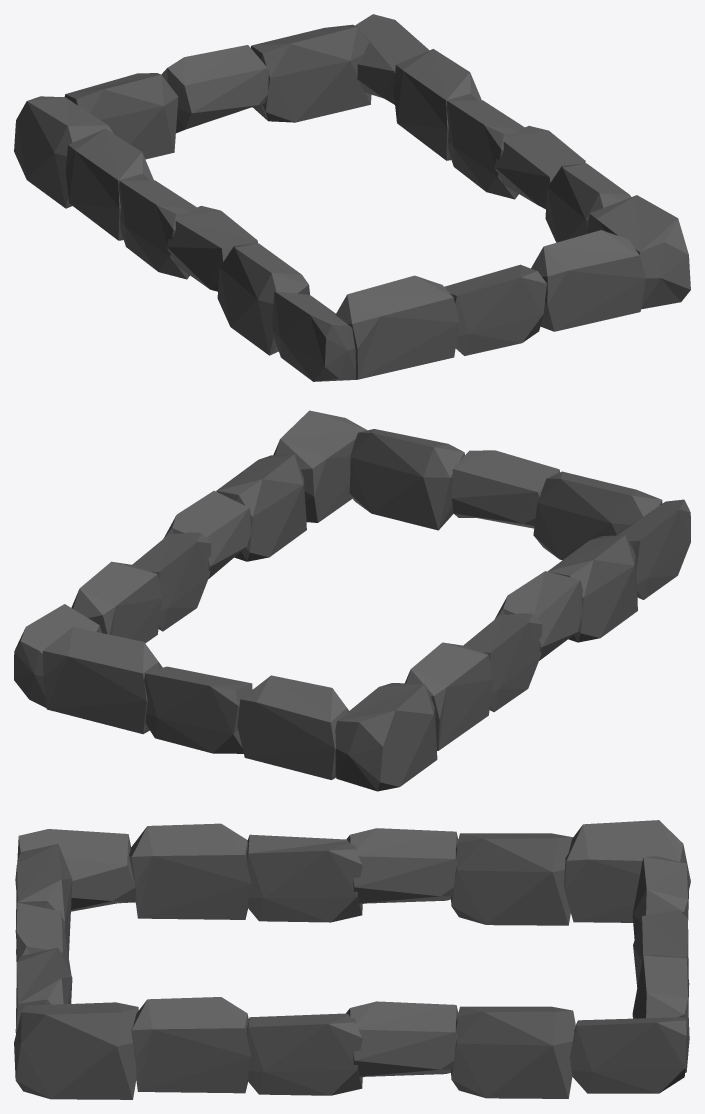
Rendered from foundation_001.glb.
3 views of the same model, one above another, from view 1: azimuth 30°, elevation 25°; view 2: azimuth 150°, elevation 25°; view 3: azimuth 270°, elevation 25° (orthographic). The views are drawn at different scales.
Parts seen in each view (by area): view 1: foundation_001; view 2: foundation_001; view 3: foundation_001.
Part boxes in pixels (x1=…): foundation_001: x1=14, y1=14, x2=690, y2=381; foundation_001: x1=14, y1=410, x2=690, y2=791; foundation_001: x1=14, y1=820, x2=690, y2=1099.
Size of the model in its own units: 7.94 by 1.57 by 11.35.
Materials: 1 (1 with a texture image).
